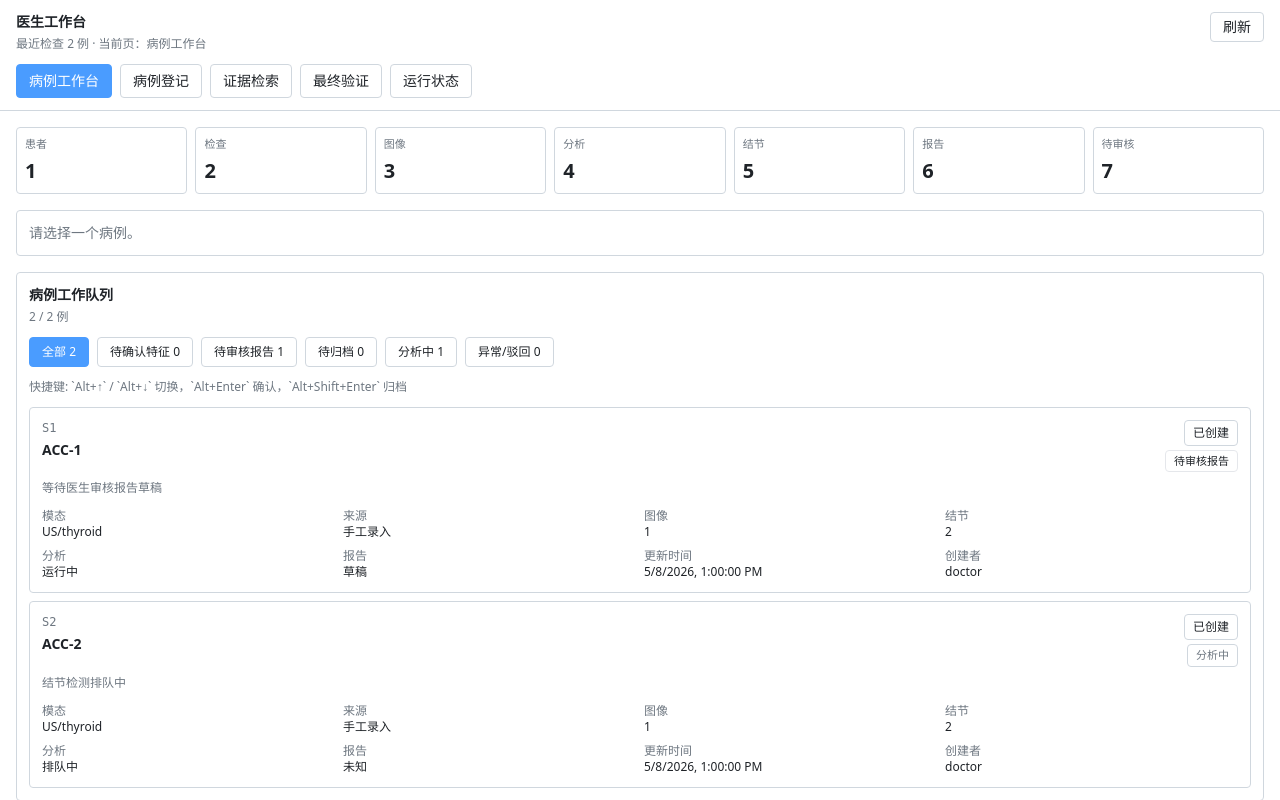
MedicalPanel › filters the case work queue by stage
Check: the button "S1 ACC-1" is shown, box x1=29 y1=406 x2=1251 y2=593
Check: the button "S2 ACC-2" is shown, box x1=29 y1=601 x2=1251 y2=788
Click the button "待审核报告 1".
click(249, 352)  # box x1=201 y1=336 x2=297 y2=366
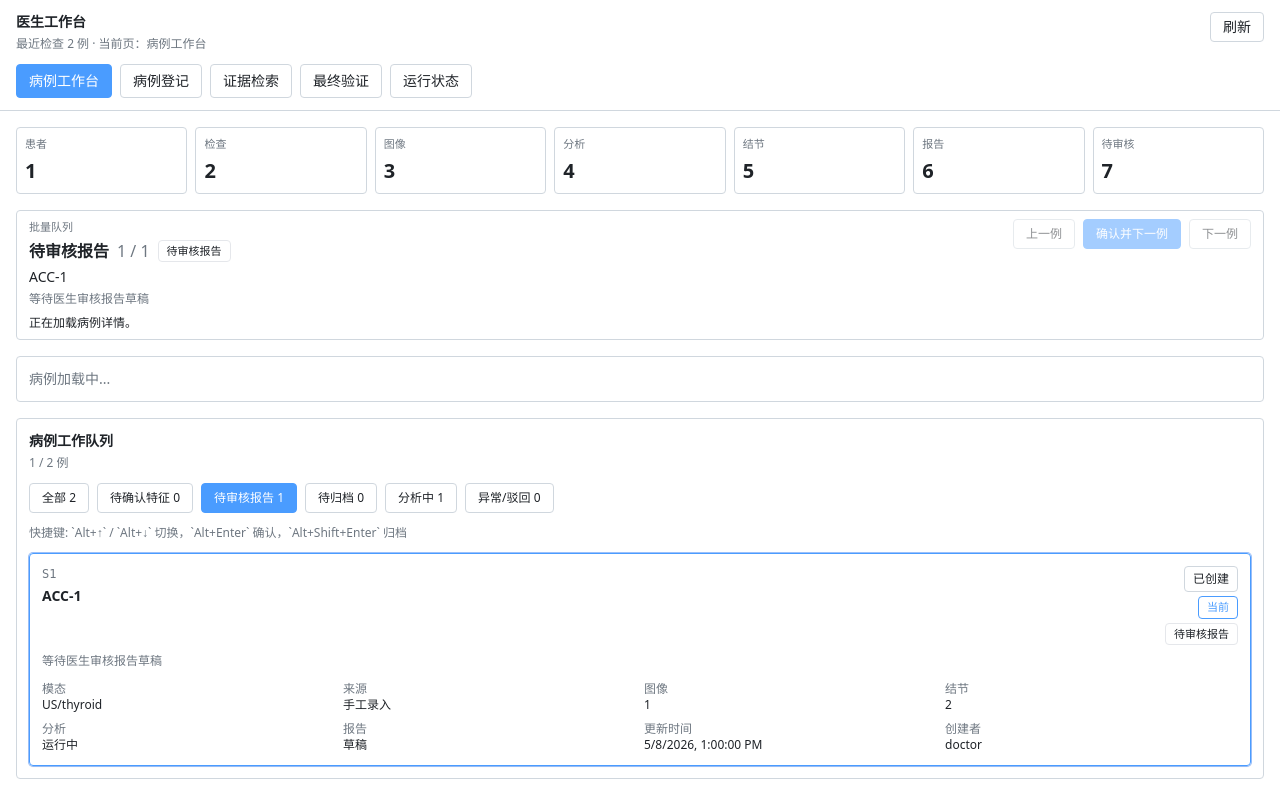
Check: the button "S1 ACC-1" is shown, box x1=29 y1=553 x2=1251 y2=766
Check: the button "S2 ACC-2" is gone
Click the button "分析中 1".
click(421, 498)  # box x1=385 y1=483 x2=457 y2=513
(page scrolled)
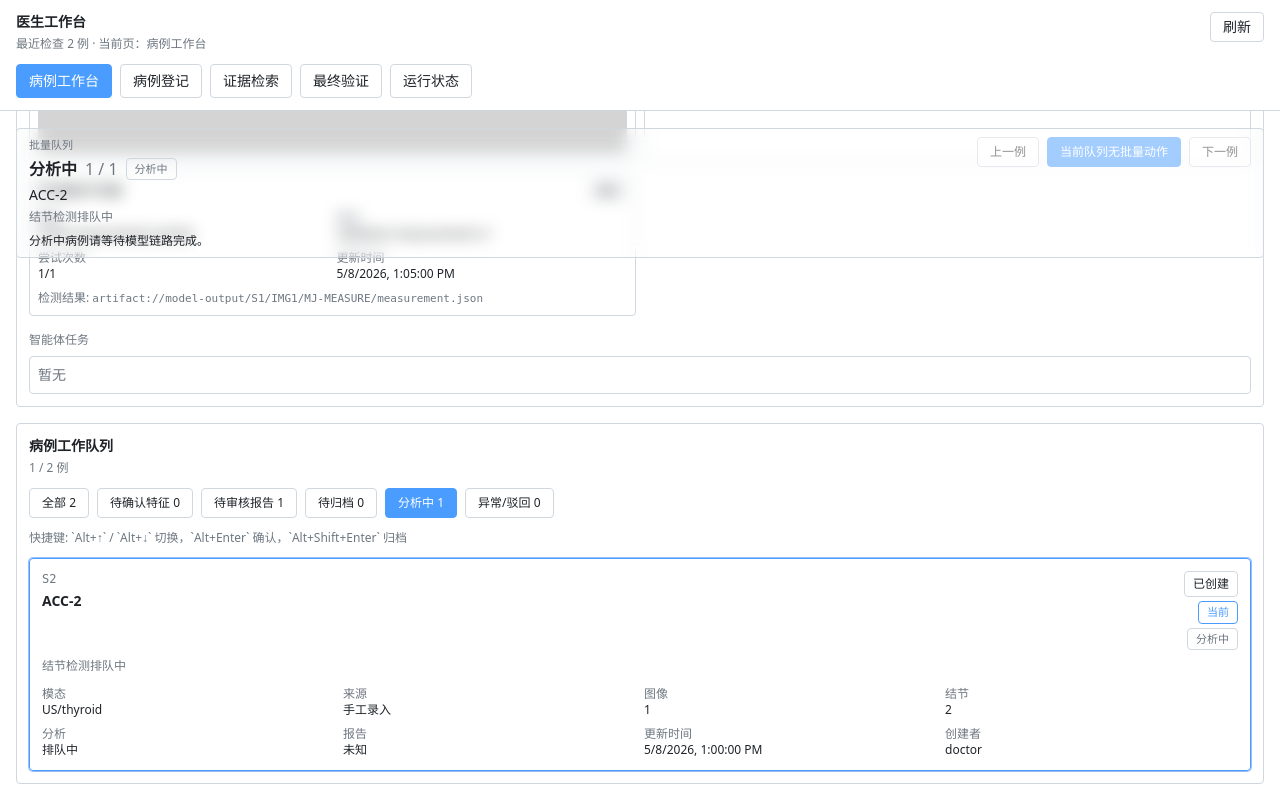
Check: the button "S2 ACC-2" is shown, box x1=29 y1=558 x2=1251 y2=771
Check: the button "S1 ACC-1" is gone
